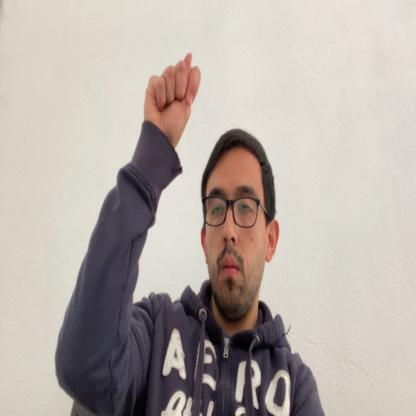T: (144, 51, 200, 142)
